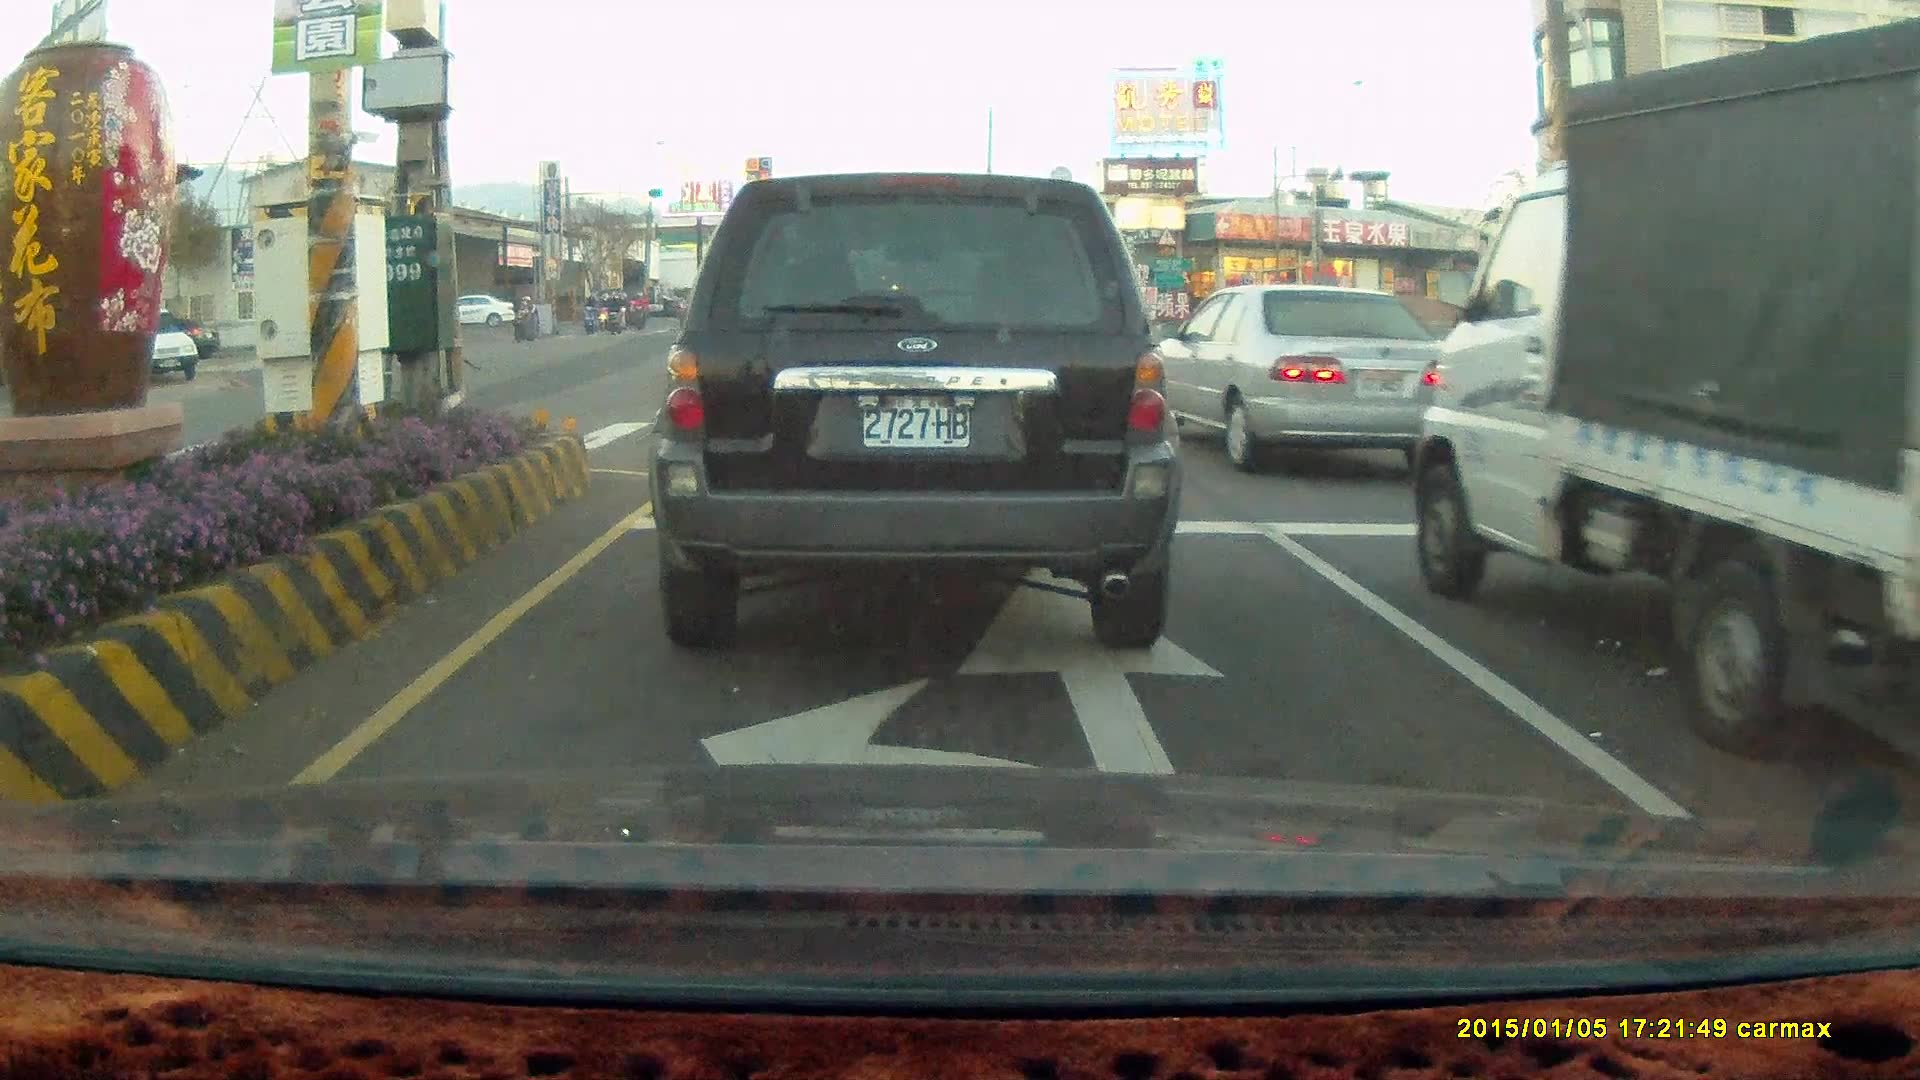rider: (507, 294, 539, 341), (605, 290, 631, 339), (579, 291, 600, 337), (584, 294, 606, 334), (628, 290, 649, 328)
vehicle: (1412, 16, 1920, 762), (644, 169, 1180, 649), (1143, 280, 1469, 473), (1134, 287, 1449, 470), (1685, 284, 1842, 372), (111, 309, 200, 389), (448, 297, 515, 330)
